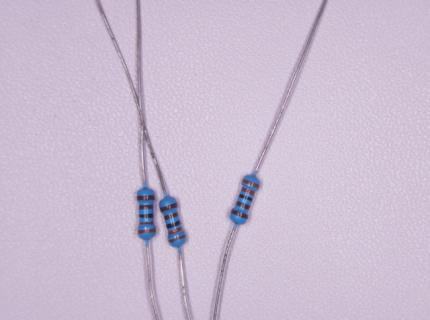Black band: (166, 220, 181, 229), (239, 193, 253, 202), (139, 214, 154, 219)
Brown band: (231, 209, 248, 220), (160, 202, 178, 212), (164, 212, 179, 221), (236, 201, 250, 210), (137, 195, 155, 200), (139, 205, 154, 210)
Orange band: (168, 233, 186, 243), (242, 179, 259, 189), (241, 187, 255, 196), (168, 227, 183, 235), (138, 227, 156, 233), (139, 221, 154, 225)
